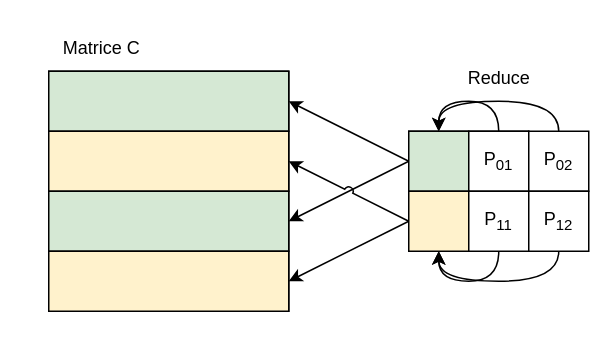
Image size: 615x338. Some labels were removed from this diagram. Here are the shapes that lost their labels. From the top down, the centre of each, then its label:
At [438,160]: "P 00".
At [438,220]: "P 10".
